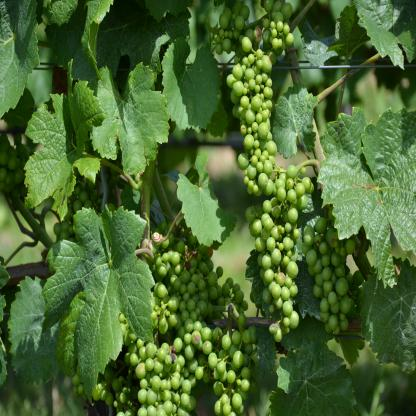grape leaf: (43, 205, 155, 396), (19, 67, 103, 216), (176, 148, 239, 255), (163, 39, 219, 136)
